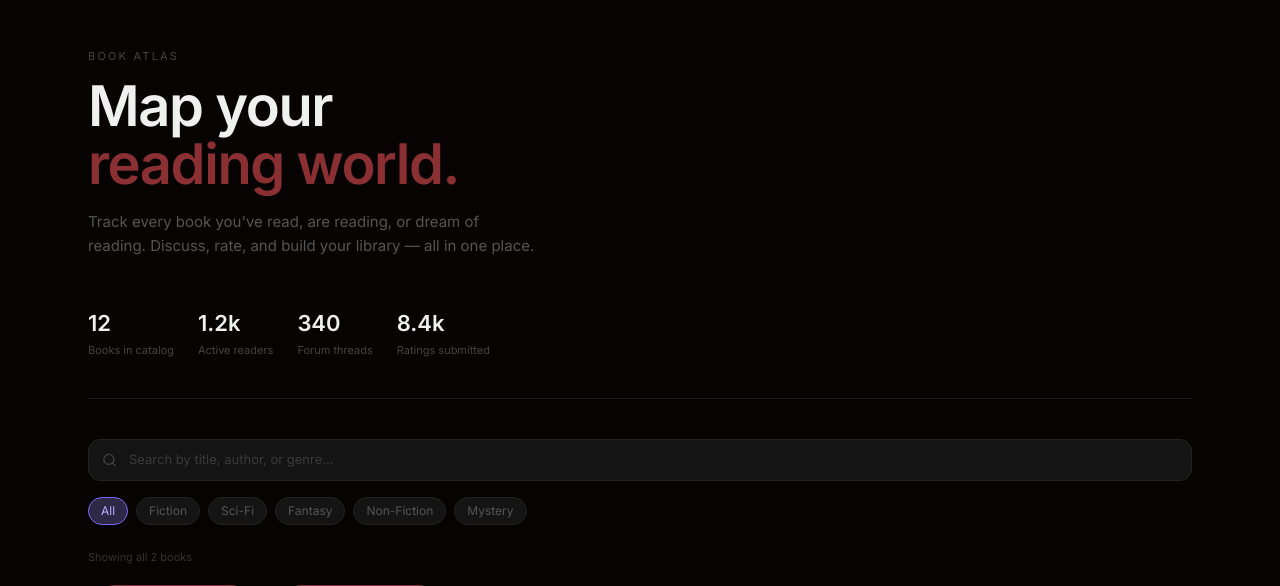
Scenario: DiscoverPage › displays the search result summary
Type "Dune" into the field with placeholder "Search by title, author, or genre…".
click(640, 460); type("Dune")  # box [88,439,1192,481]
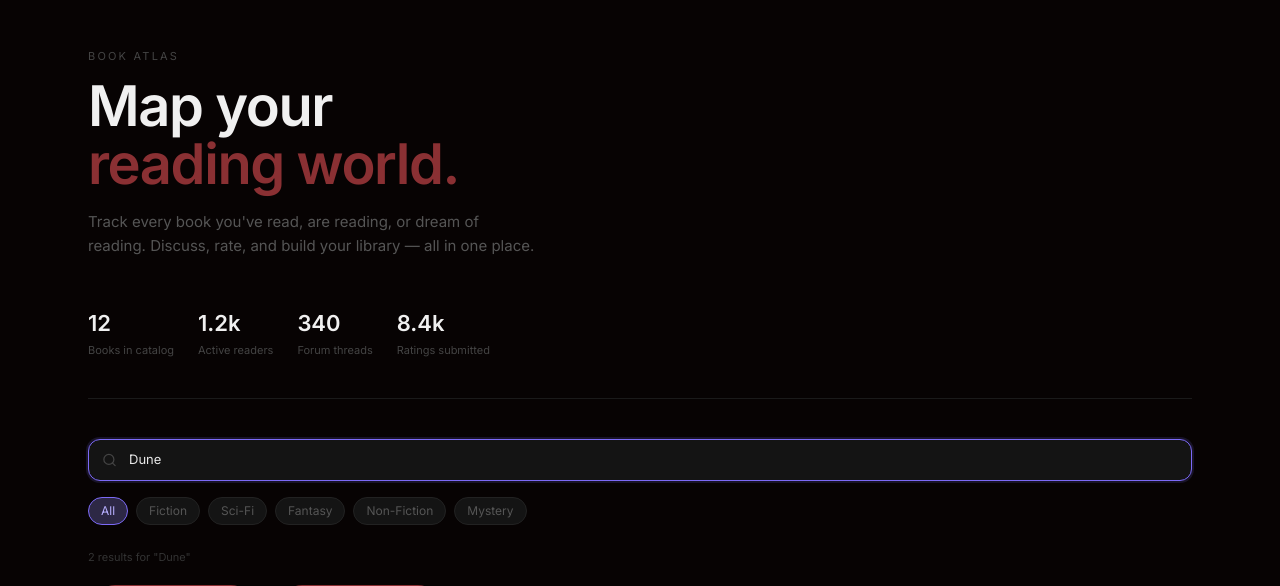
Expected: the text "2 results for \"Dune\"" is shown, [88,550,191,564]
